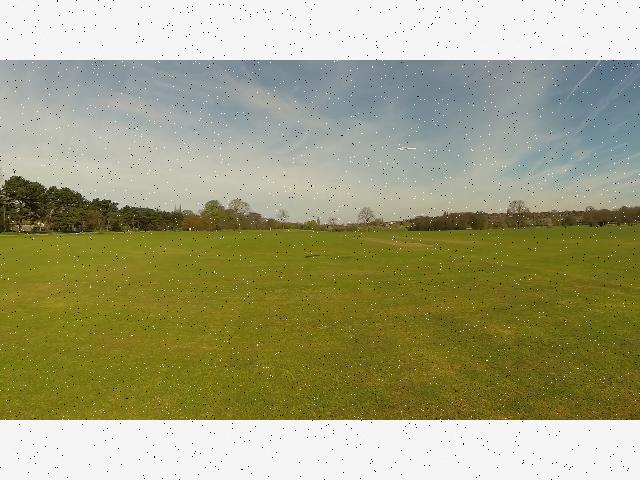Anti-Drone: (385, 139, 423, 161)
